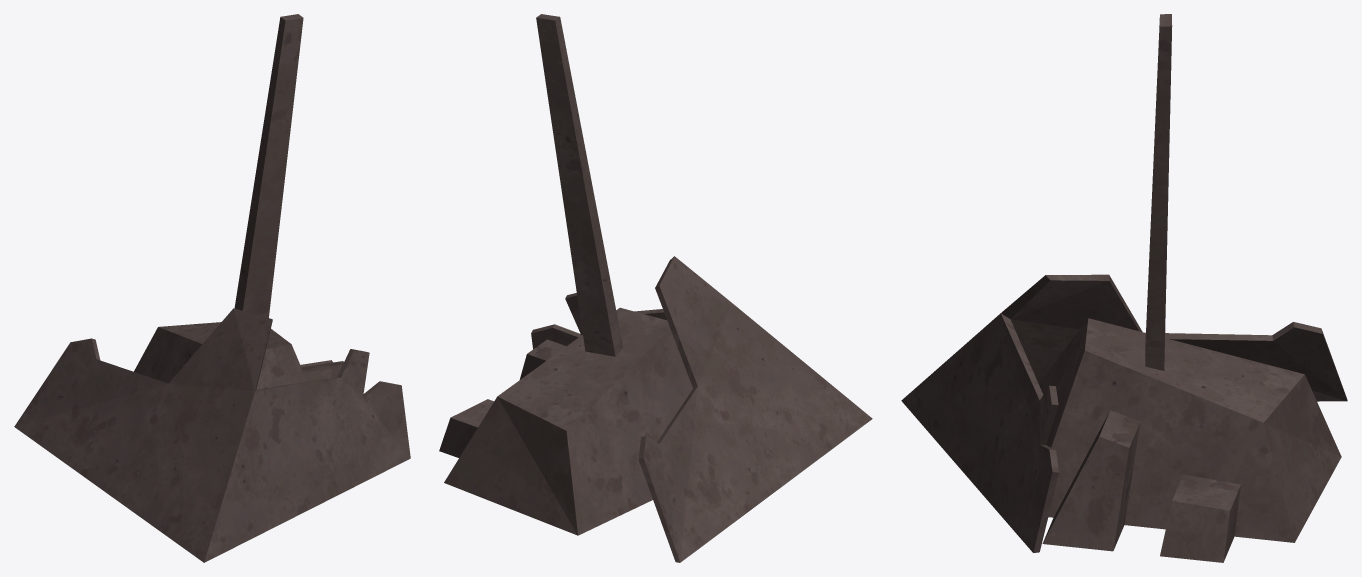
The model's file is Cluster01.fbx.
3 views of the same model, side by side, from view 1: azimuth 30°, elevation 25°; view 2: azimuth 150°, elevation 25°; view 3: azimuth 270°, elevation 25° (orthographic). The views are drawn at different scales.
Visible parts, largest first — view 1: SM_ENV_STRUCT_ScrapYard_Debris_Cluster_01.mo; view 2: SM_ENV_STRUCT_ScrapYard_Debris_Cluster_01.mo; view 3: SM_ENV_STRUCT_ScrapYard_Debris_Cluster_01.mo.
Boxes of the visible parts, x1,y1,x2,y2 form: SM_ENV_STRUCT_ScrapYard_Debris_Cluster_01.mo: (14, 14, 410, 562); SM_ENV_STRUCT_ScrapYard_Debris_Cluster_01.mo: (439, 14, 872, 562); SM_ENV_STRUCT_ScrapYard_Debris_Cluster_01.mo: (901, 14, 1347, 562).
Size of the model in its own units: 495 by 700 by 569.
Materials: 2 (2 with a texture image).
